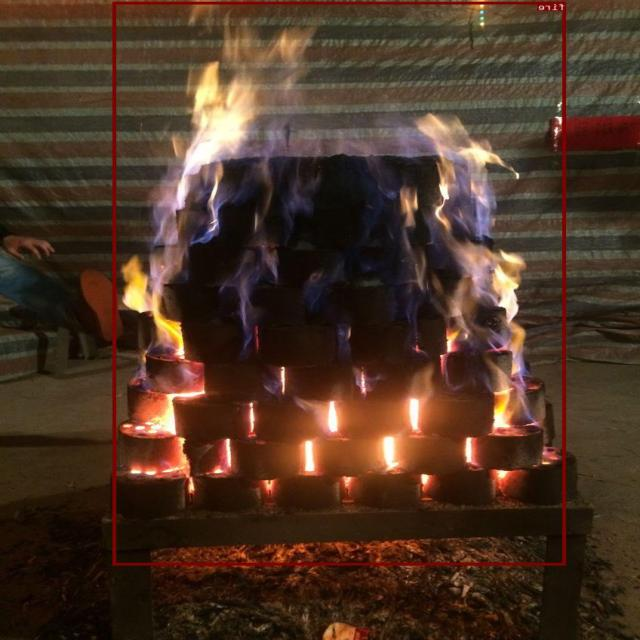fire: (114, 1, 566, 565)
